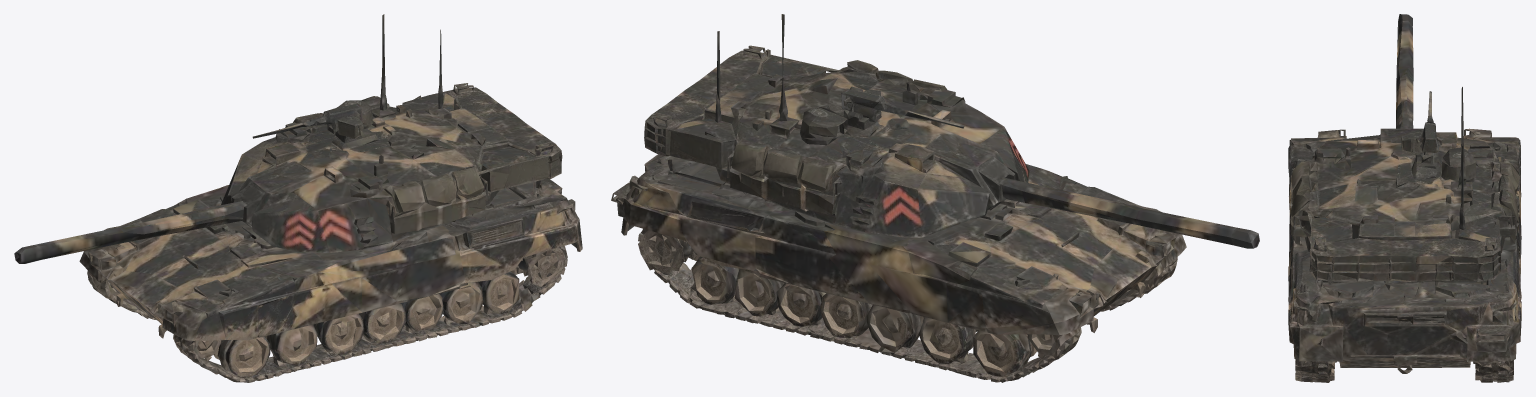
File: enemy_tank.glb
The picture shows the model from 3 angles, left to right: view 1: azimuth 30°, elevation 25°; view 2: azimuth 150°, elevation 25°; view 3: azimuth 270°, elevation 25°; orthographic projection. The views are drawn at different scales.
Parts seen in each view (by area): view 1: Mesh_0; view 2: Mesh_0; view 3: Mesh_0.
Boxes of the visible parts, x1,y1,x2,y2 form: Mesh_0: [14, 14, 582, 382]; Mesh_0: [611, 14, 1259, 382]; Mesh_0: [1288, 14, 1521, 382].
Bounding box in the file's own units: 1.9 × 0.9011 × 0.7074.
1 material, 1 textured.
